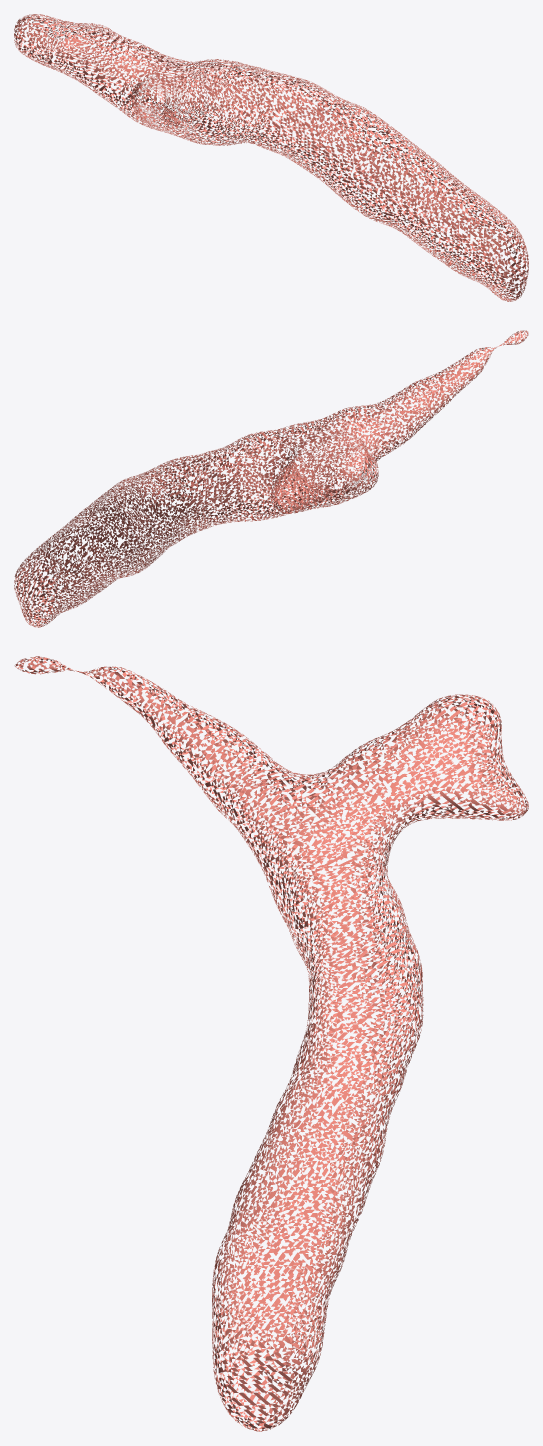
The model's file is diseased.glb.
3 renders of one model, top to bottom at view 1: azimuth 30°, elevation 25°; view 2: azimuth 150°, elevation 25°; view 3: azimuth 270°, elevation 25°, orthographic. The views are drawn at different scales.
Bounding box in the file's own units: 109 × 83.2 × 79.23.
